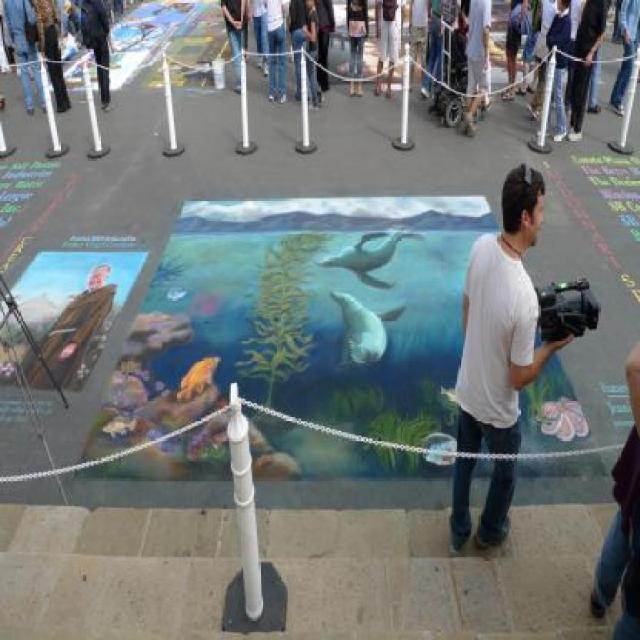Person: (463, 148, 560, 570)
